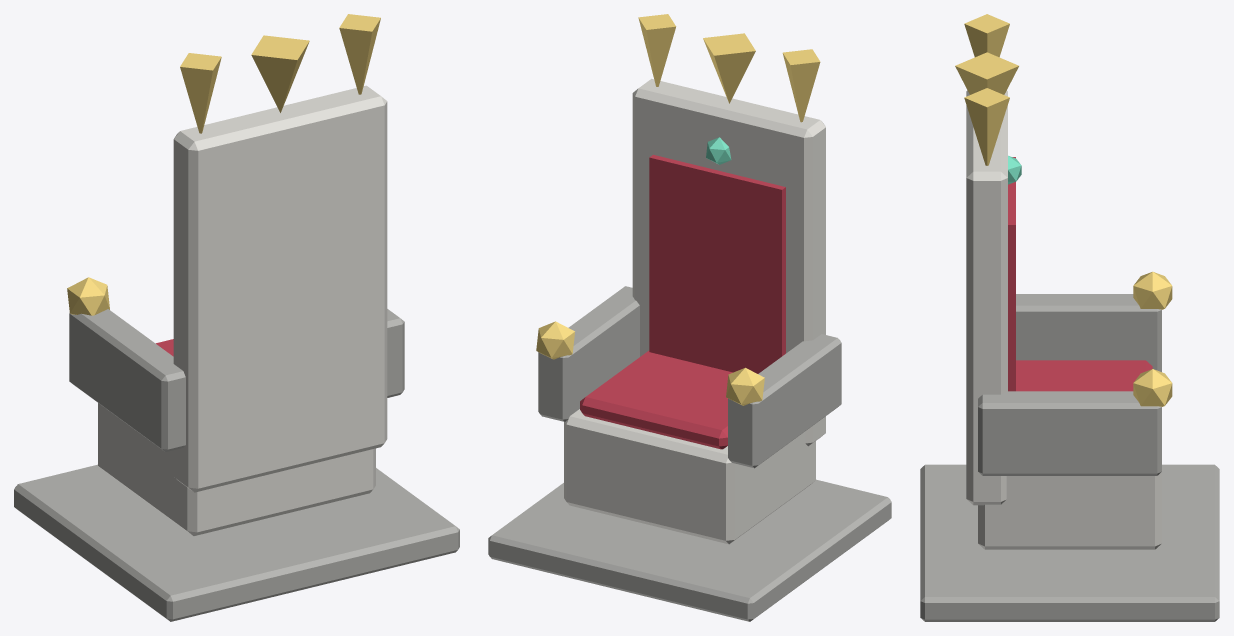
File: Throne.glb
3 views of the same model, side by side, from view 1: azimuth 30°, elevation 25°; view 2: azimuth 150°, elevation 25°; view 3: azimuth 270°, elevation 25° (orthographic). The views are drawn at different scales.
Visible parts, largest first — view 1: Throne; view 2: Throne; view 3: Throne.
Part boxes in pixels (<box>): Throne: <box>14,14,459,621</box>; Throne: <box>488,14,891,621</box>; Throne: <box>920,14,1219,621</box>.
Bounding box in the file's own units: 1.4 × 2.37 × 1.3.
